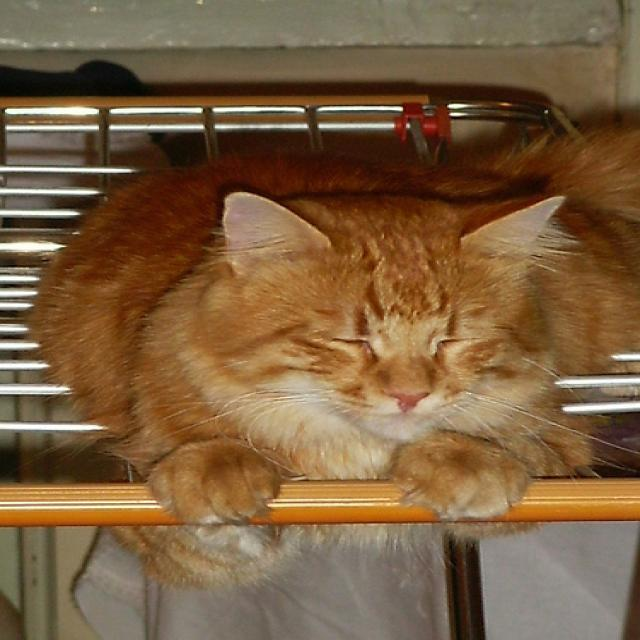left eye: (427, 331, 469, 356)
